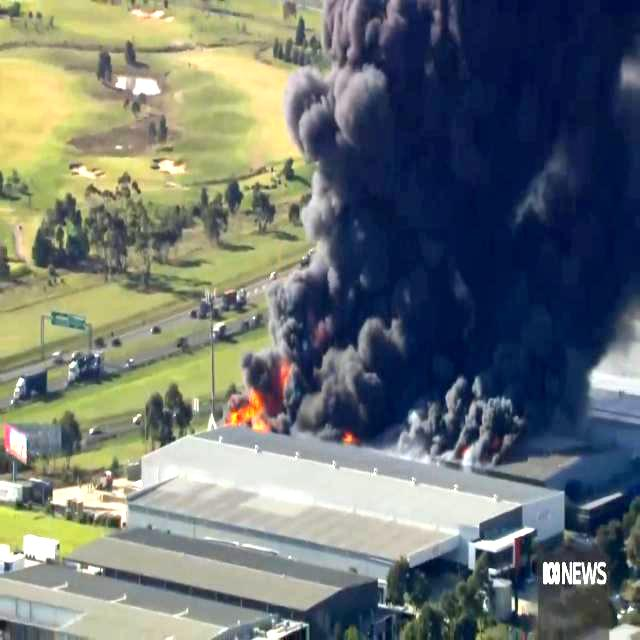fire: (227, 396, 275, 432)
